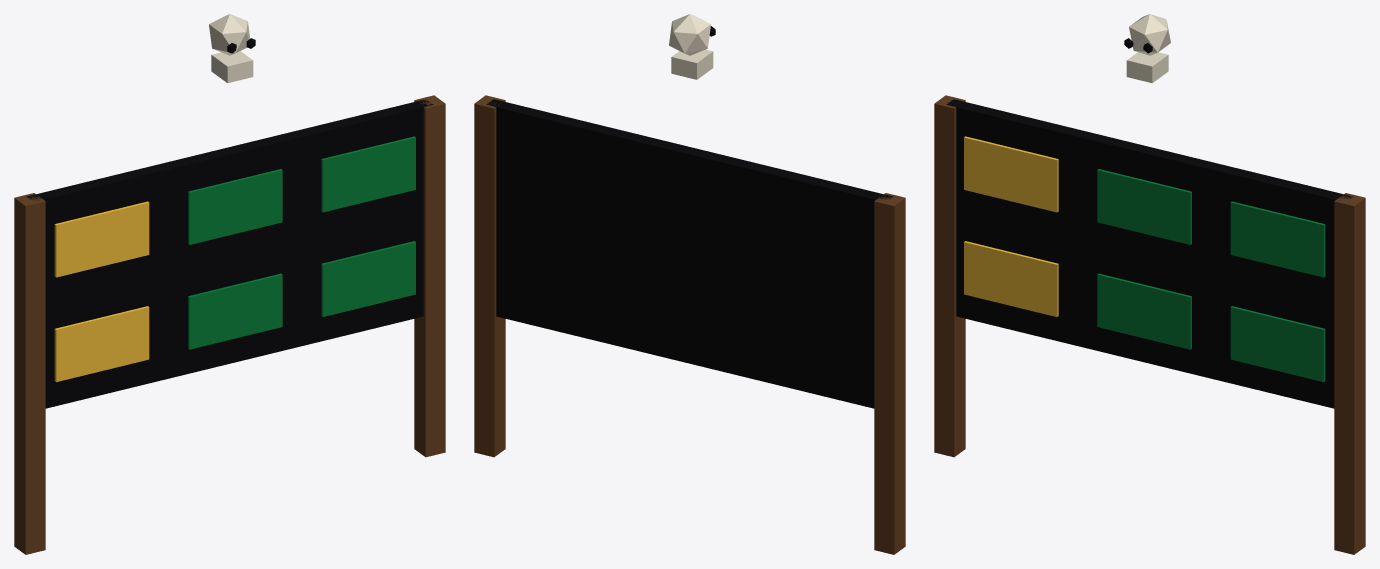
Rendered from Prop_OR_OddsBoard_21.glb.
The picture shows the model from 3 angles, left to right: view 1: azimuth 30°, elevation 25°; view 2: azimuth 150°, elevation 25°; view 3: azimuth 330°, elevation 25°; orthographic projection.
Parts seen in each view (by area): view 1: Prop_OR_OddsBoard_21; view 2: Prop_OR_OddsBoard_21; view 3: Prop_OR_OddsBoard_21.
Part boxes in pixels (box(x1,y1,x2,y2)): Prop_OR_OddsBoard_21: box(14, 14, 445, 554); Prop_OR_OddsBoard_21: box(474, 14, 905, 554); Prop_OR_OddsBoard_21: box(934, 14, 1365, 554).
Size of the model in its own units: 3.15 by 3.48 by 0.3057.
